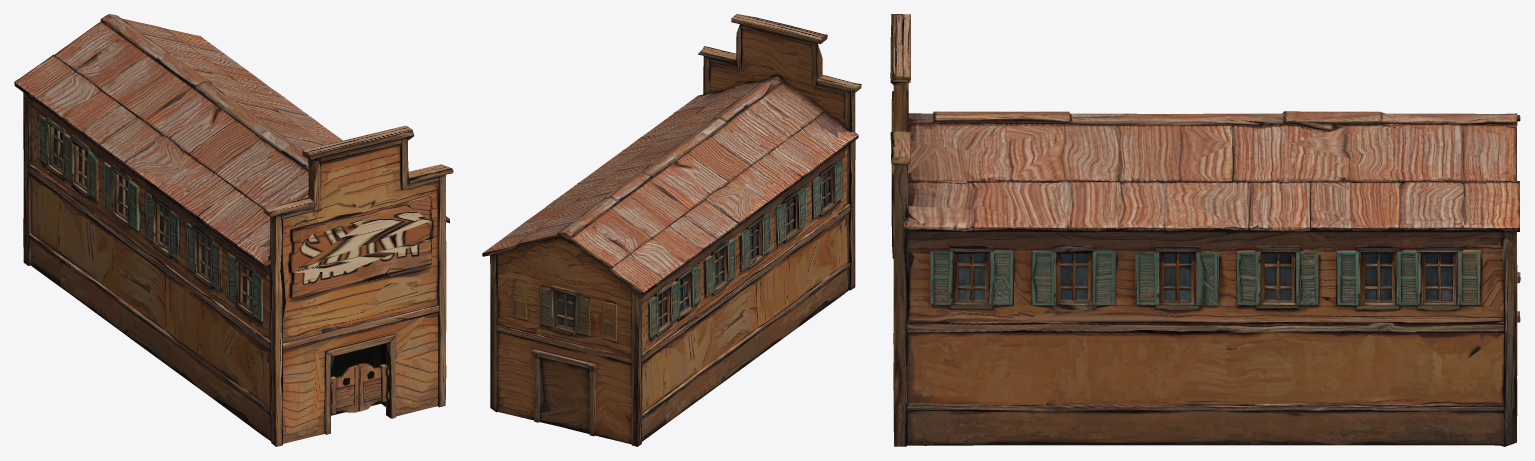
The model's file is wl_saloon_long.glb.
3 views of the same model, side by side, from view 1: azimuth 30°, elevation 25°; view 2: azimuth 150°, elevation 25°; view 3: azimuth 270°, elevation 25° (orthographic). The views are drawn at different scales.
Parts seen in each view (by area): view 1: wl_saloon_long; view 2: wl_saloon_long; view 3: wl_saloon_long.
Part boxes in pixels (left/top/right/bottom): wl_saloon_long: left=14, top=14, right=453, bottom=446; wl_saloon_long: left=482, top=14, right=861, bottom=446; wl_saloon_long: left=890, top=14, right=1520, bottom=446.
Bounding box in the file's own units: 4.41 × 6.4 × 10.42.
1 material, 1 textured.
